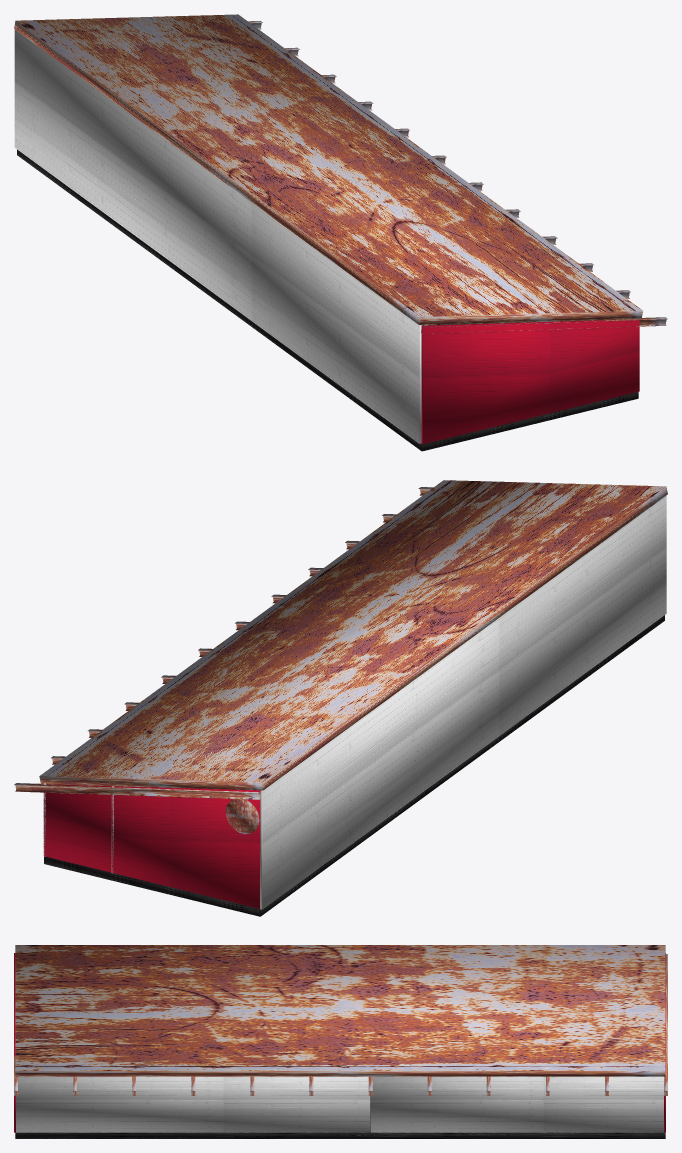
The model's file is gym_v2.obj.
3 renders of one model, top to bottom at view 1: azimuth 30°, elevation 25°; view 2: azimuth 150°, elevation 25°; view 3: azimuth 270°, elevation 25°, orthographic. The views are drawn at different scales.
Visible parts, largest first — view 1: Ceiling, BWall2, SWall2, Floor, Box001; view 2: Ceiling, BWall2, SWall1, Floor, Beam, Vent; view 3: Ceiling, Windows, StairsWallO, Floor, Beam.
Part boxes in pixels (x1,y1,x2,y2): Ceiling: [14, 14, 642, 324]; BWall2: [14, 29, 421, 443]; SWall2: [421, 320, 639, 444]; Floor: [17, 149, 638, 451]; Box001: [421, 317, 667, 333]; Ceiling: [39, 480, 667, 790]; BWall2: [260, 495, 666, 909]; SWall1: [43, 784, 260, 908]; Floor: [44, 615, 664, 916]; Beam: [14, 783, 260, 799]; Vent: [225, 799, 259, 834]; Ceiling: [15, 945, 665, 1076]; Windows: [16, 1076, 370, 1132]; StairsWallO: [370, 1073, 665, 1132]; Floor: [15, 1096, 665, 1138]; Beam: [664, 954, 667, 1095].
Size of the model in its own units: 460 by 239 by 1307.
